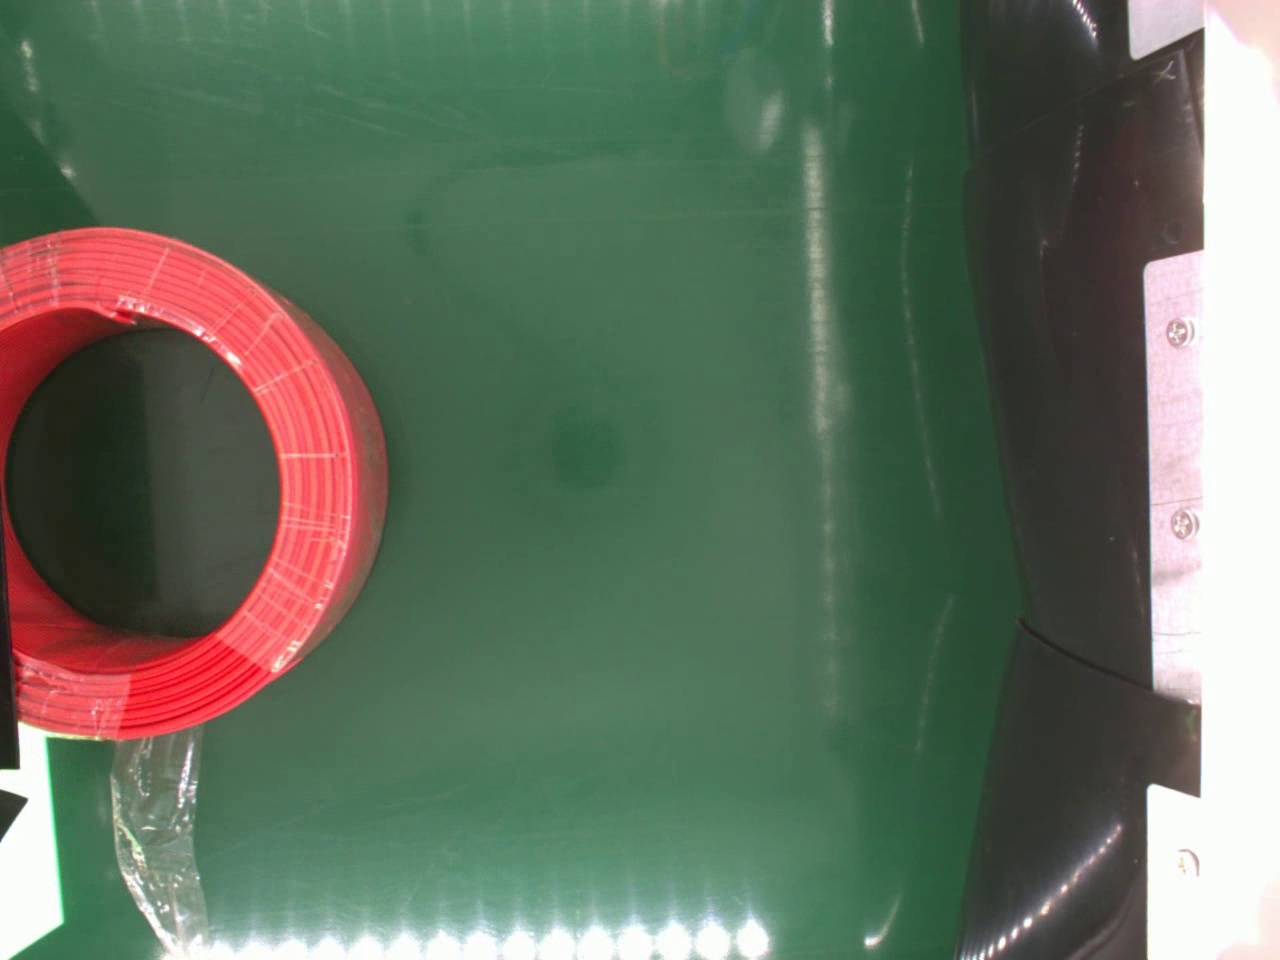red: (0, 225, 387, 743)
